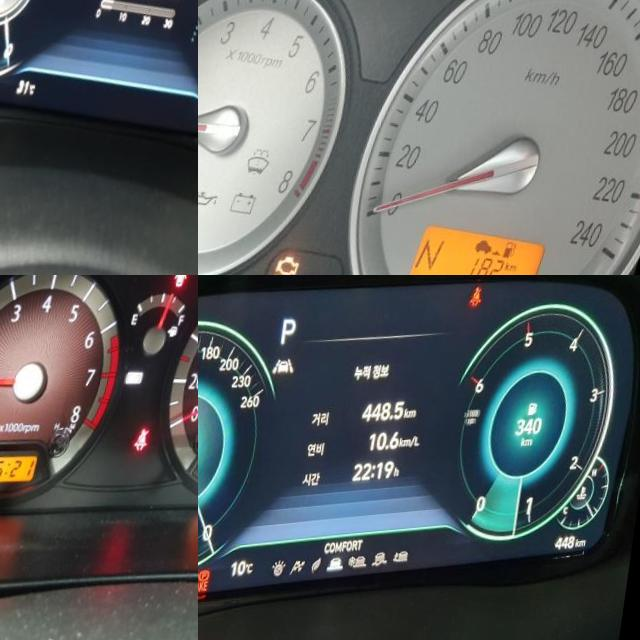Doors: (177, 275, 194, 293)
LaneCenteringOff: (277, 362, 302, 381)
